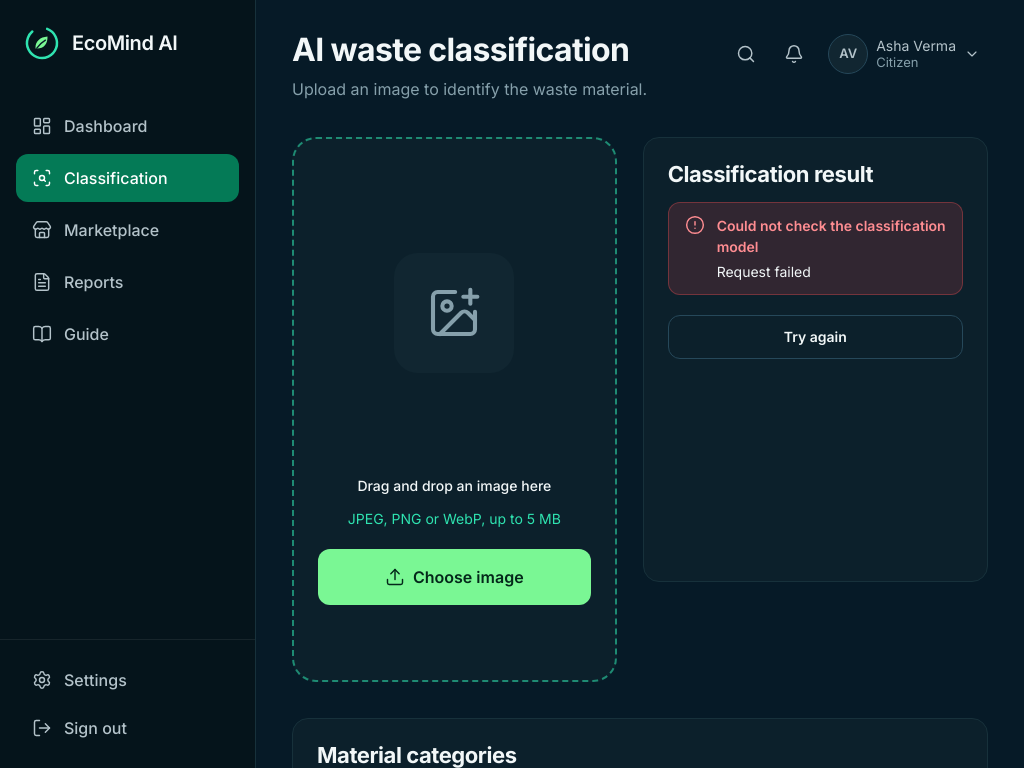
Test: application navigation › the account menu shows the real signed-in user and offers only what exists
Click the button with aria-label "account menu" at (904, 54), box [820,32,988,76]
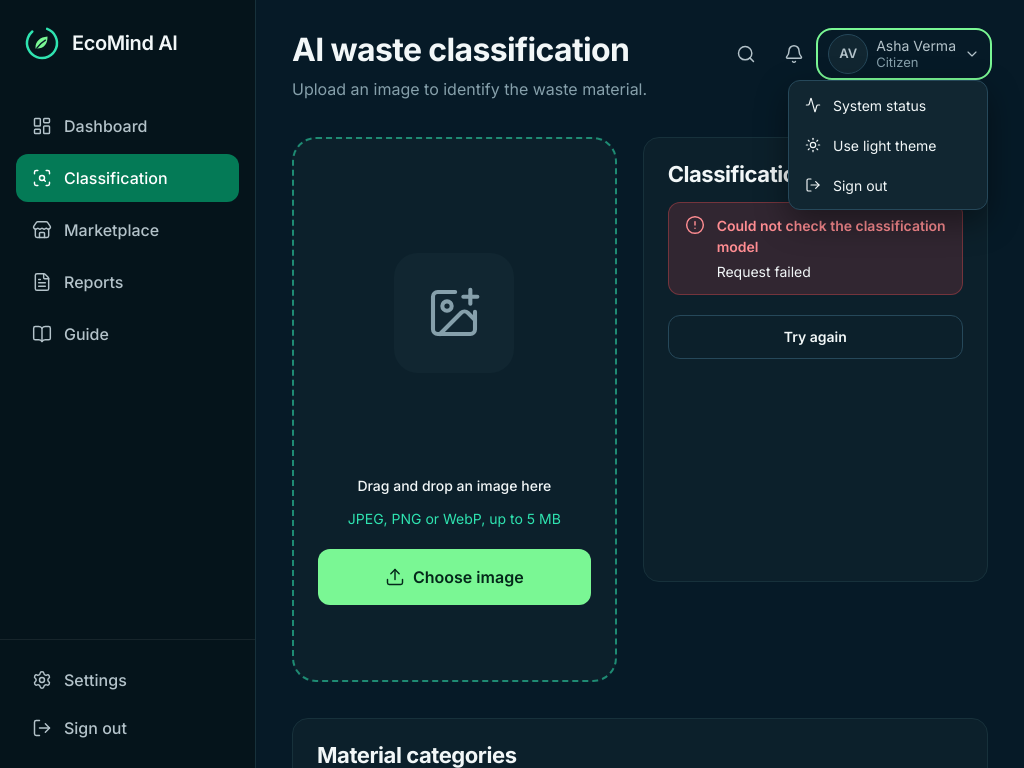
Expected: the menu items read "System status", "Use light theme", "Sign out", in this order, [805,96,926,114]; [793,125,983,165]; [793,165,983,205]
